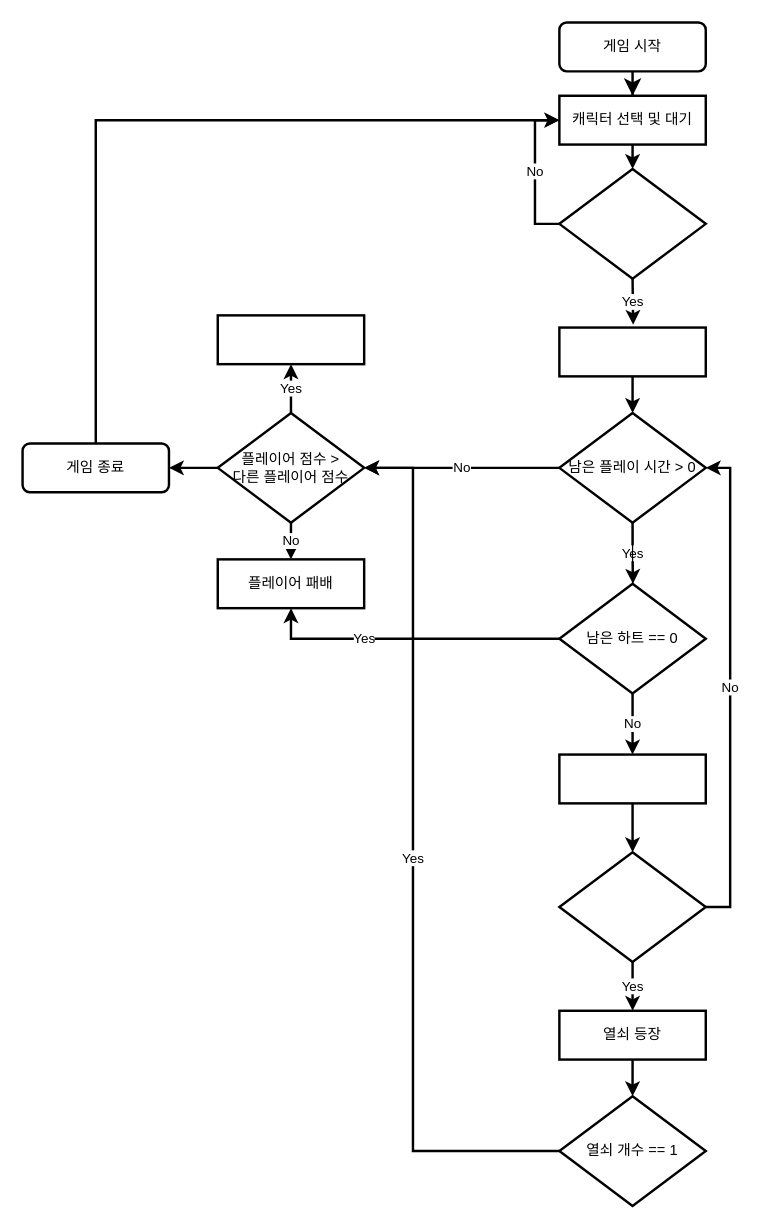
Some shapes in this 761 by 1227 pixel diagram are drawn without their labels. Each missing label, with the centre of its shape:
Ready한 인원 == 3: the point at 632,223
게임 플레이: the point at 632,351
코인 개수 > 50: the point at 632,906
코인 수집 몬스터 처치: the point at 632,778
플레이어 승리: the point at 290,339
